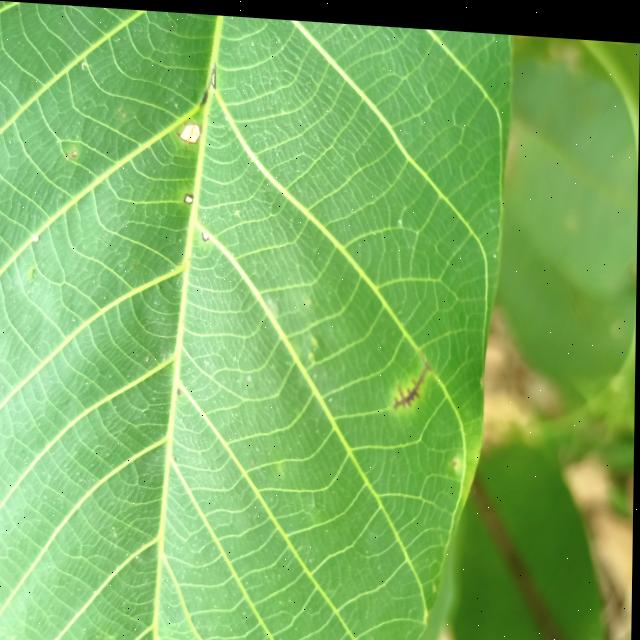Colletotrichum: (184, 190, 194, 200), (202, 228, 210, 239), (72, 148, 77, 156), (179, 386, 183, 392)
Corynespora: (394, 349, 433, 405)
Leaf-Blight: (180, 120, 200, 141)
